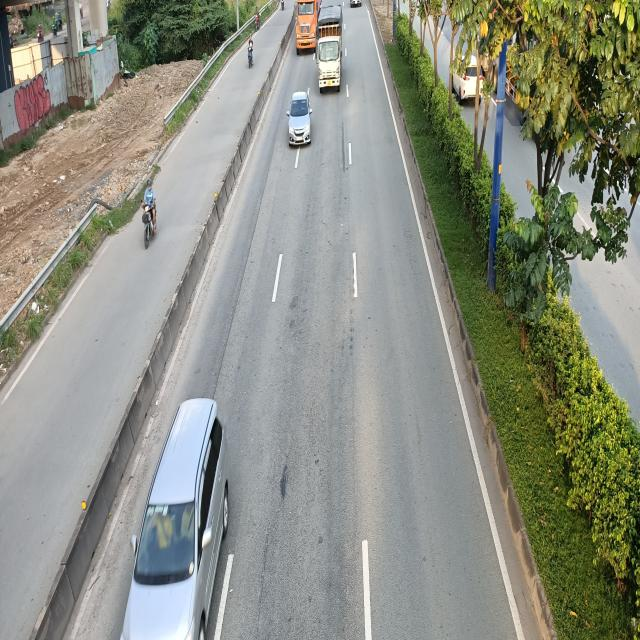car: (288, 90, 313, 146)
container: (294, 0, 318, 54)
truck: (316, 4, 345, 92)
